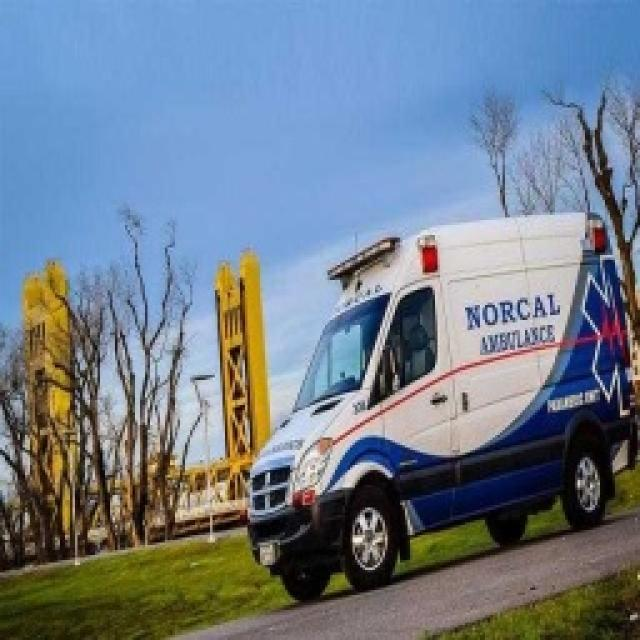emergency-vehicle: (252, 213, 639, 582)
